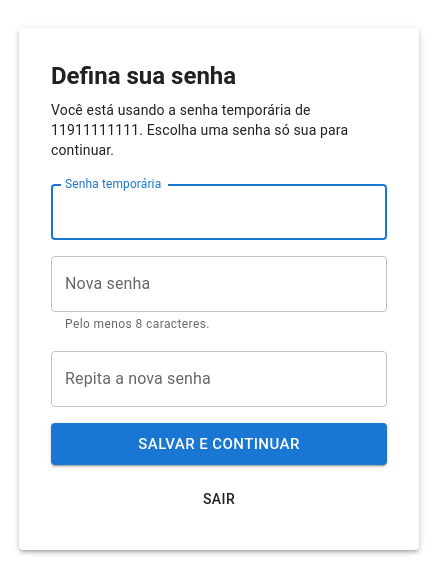
Scenario: formulário › recusa quando a confirmação não confere
Type "novasenha123" into the password field labelled "Senha temporária". click: (219,212)
box: [51,184,387,240]
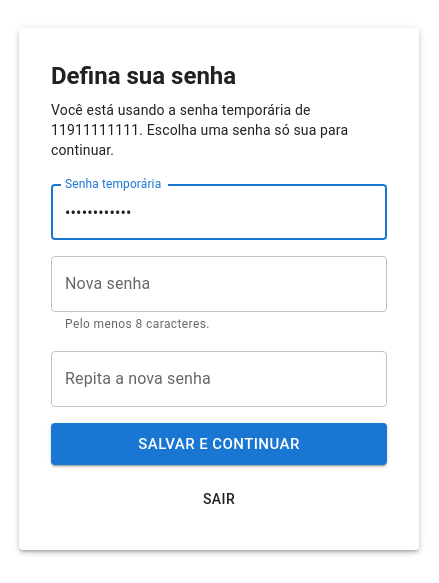
Type "minhaSenhaBoa9" into the password field labelled "Nova senha". click: (219,284)
box: [51,256,387,312]
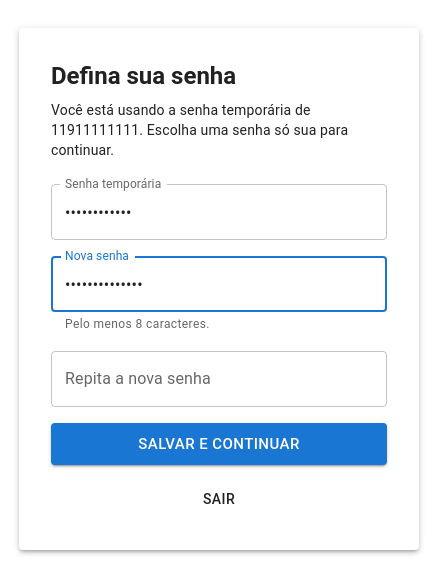
Type "outraCoisa9" into the password field labelled "Repita a nova senha". click: (219,379)
box: [51,351,387,407]
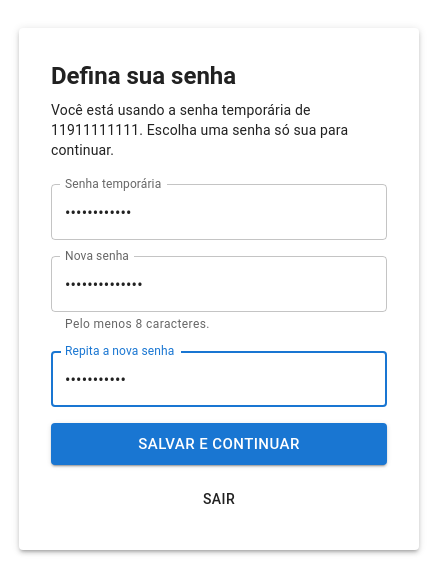
Click the button "Salvar e continuar". click: (219,444)
box: [51,423,387,465]
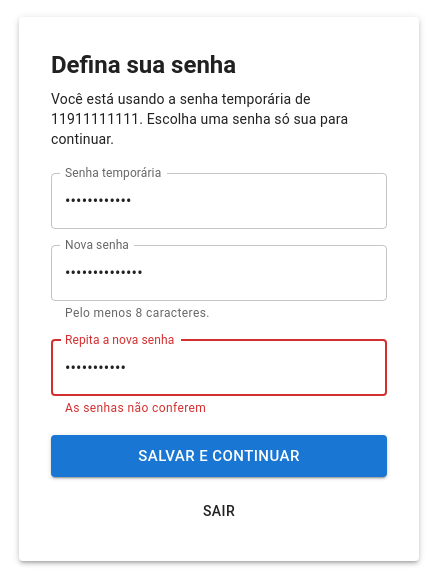
Expected: the text "As senhas não conferem" is shown, [65,401,206,415]
